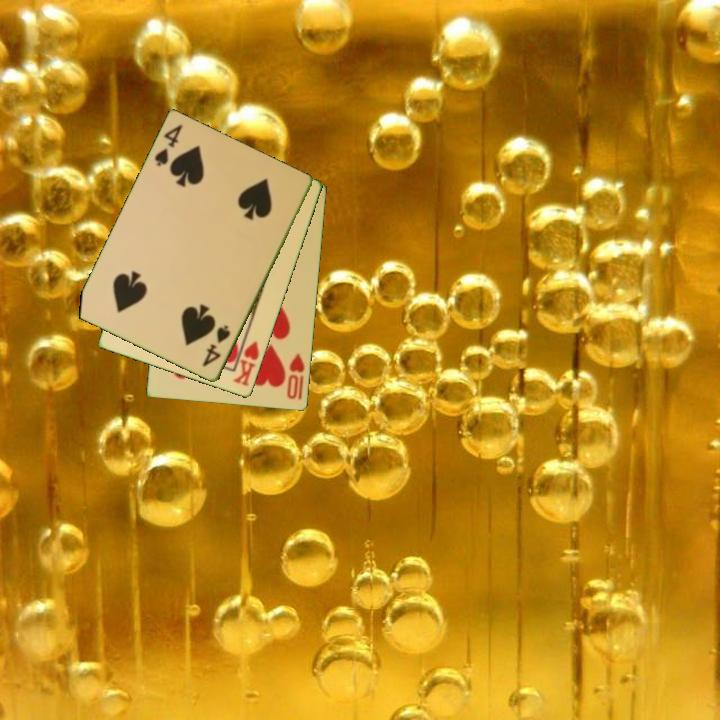10h: (284, 350, 307, 403)
4s: (199, 322, 234, 370), (151, 121, 185, 170)
Kh: (229, 332, 262, 389)
